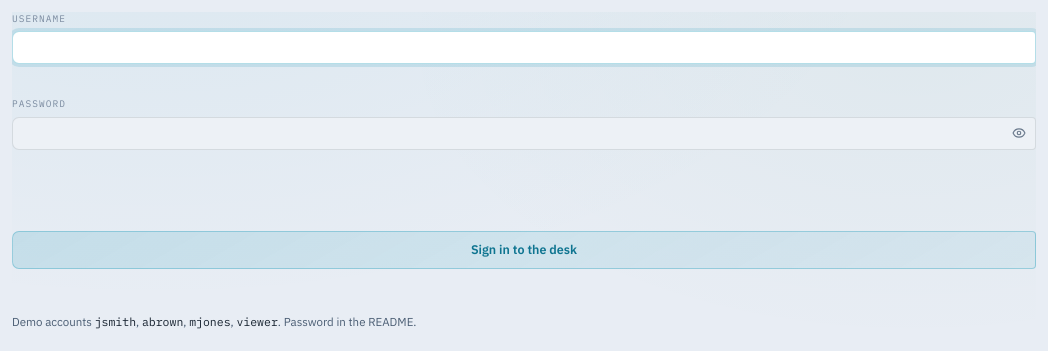
Test: LoginForm › keeps Sign in pressable with blank boxes, says what is missing under each, and sends nothing
The width and height of the screenshot is (1048, 351).
What coordinates should you click on to do the following:
click the button "Sign in to the desk"
I would click on:
 (524, 250)
Its box is [12, 230, 1036, 268].
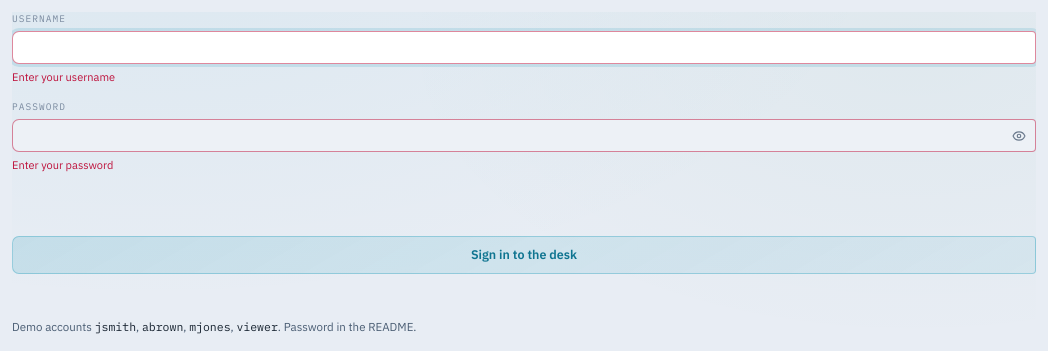
Expected: the text with id "login_username_message" reads "Enter your username", [12, 70, 115, 84]
Expected: the text with id "login_password_message" reads "Enter your password", [12, 158, 113, 172]
